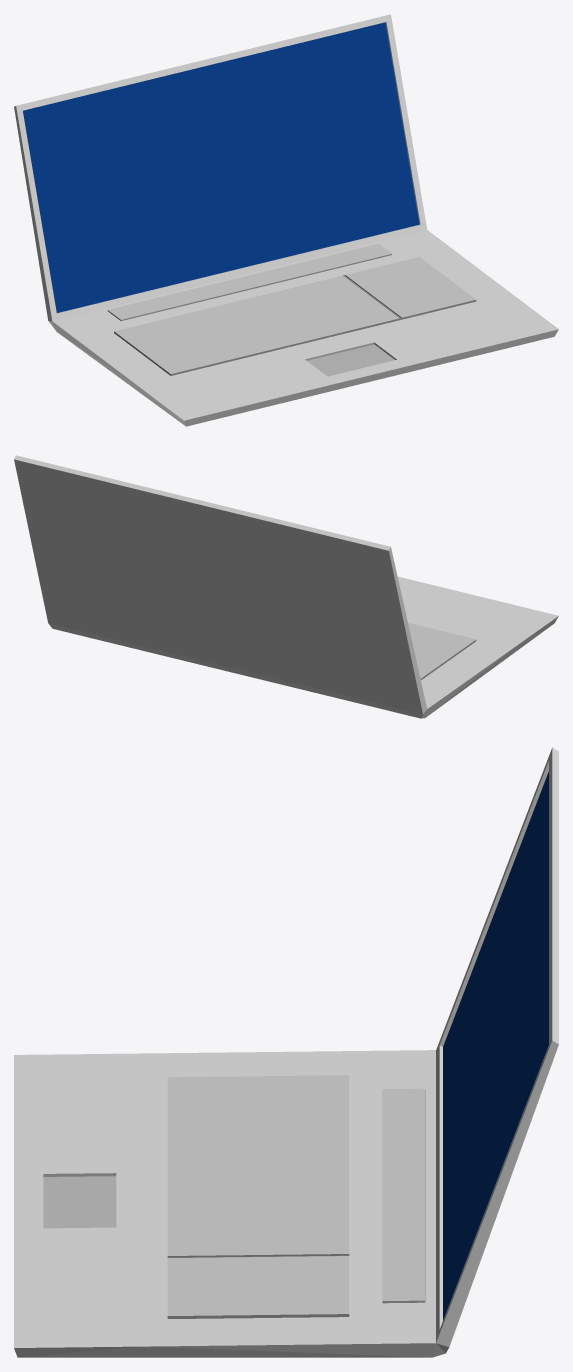
Rendered from laptop_01.glb.
3 renders of one model, top to bottom at view 1: azimuth 30°, elevation 25°; view 2: azimuth 150°, elevation 25°; view 3: azimuth 270°, elevation 25°, orthographic. The views are drawn at different scales.
Visible parts, largest first — view 1: Plane; view 2: Plane; view 3: Plane.
Boxes of the visible parts, left/top/right/bottom form: Plane: left=14, top=14, right=558, bottom=426; Plane: left=14, top=455, right=558, bottom=718; Plane: left=14, top=747, right=558, bottom=1357.
Bounding box in the file's own units: 0.3191 × 0.1623 × 0.2508.
1 material, 1 textured.
